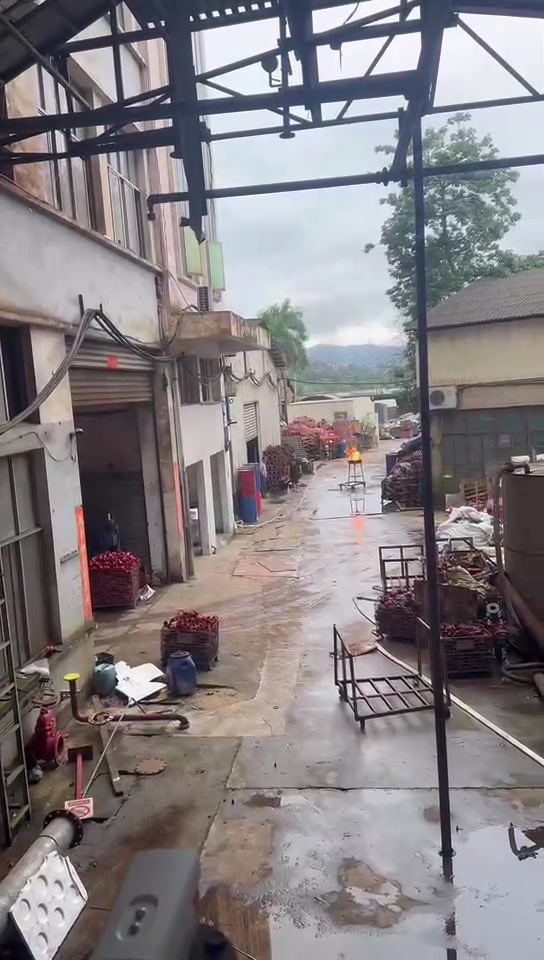fire: (345, 446, 359, 460)
